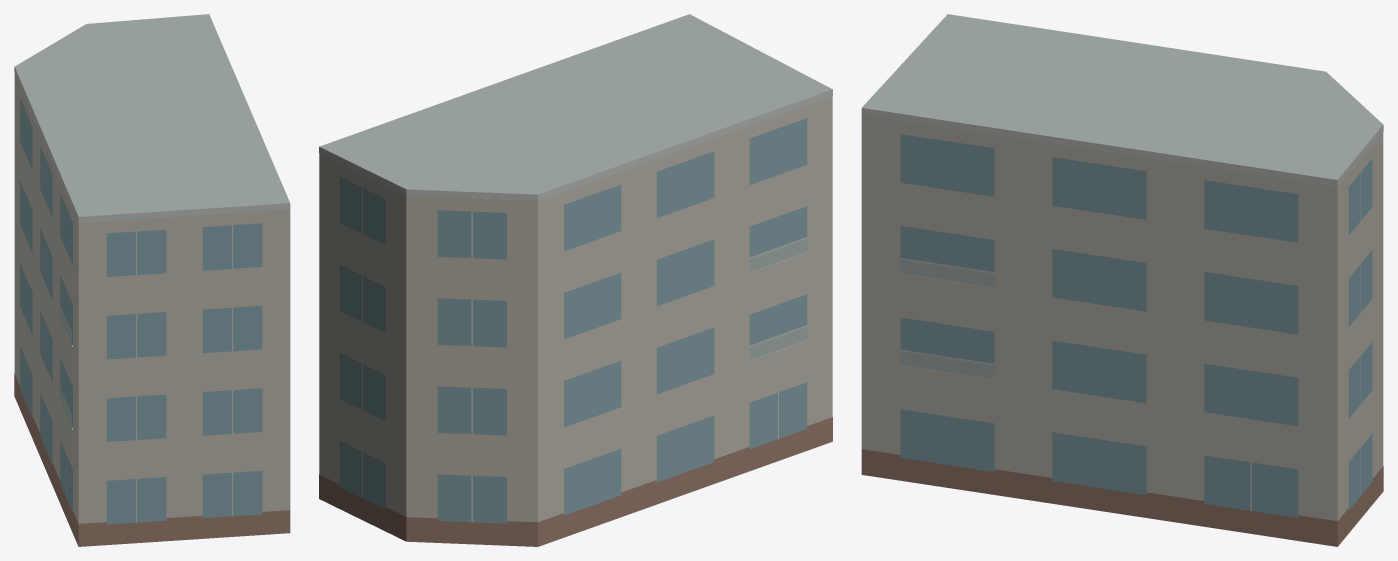
The model's file is survey-upis-32890927.glb.
3 views of the same model, side by side, from view 1: azimuth 30°, elevation 25°; view 2: azimuth 150°, elevation 25°; view 3: azimuth 270°, elevation 25° (orthographic). The views are drawn at different scales.
Visible parts, largest first — view 1: survey-upis-32890927.tmp; view 2: survey-upis-32890927.tmp; view 3: survey-upis-32890927.tmp.
Boxes of the visible parts, x1,y1,x2,y2 form: survey-upis-32890927.tmp: [14, 14, 290, 546]; survey-upis-32890927.tmp: [319, 14, 832, 546]; survey-upis-32890927.tmp: [861, 14, 1383, 546].
Bounding box in the file's own units: 12.43 × 12.8 × 16.51.
